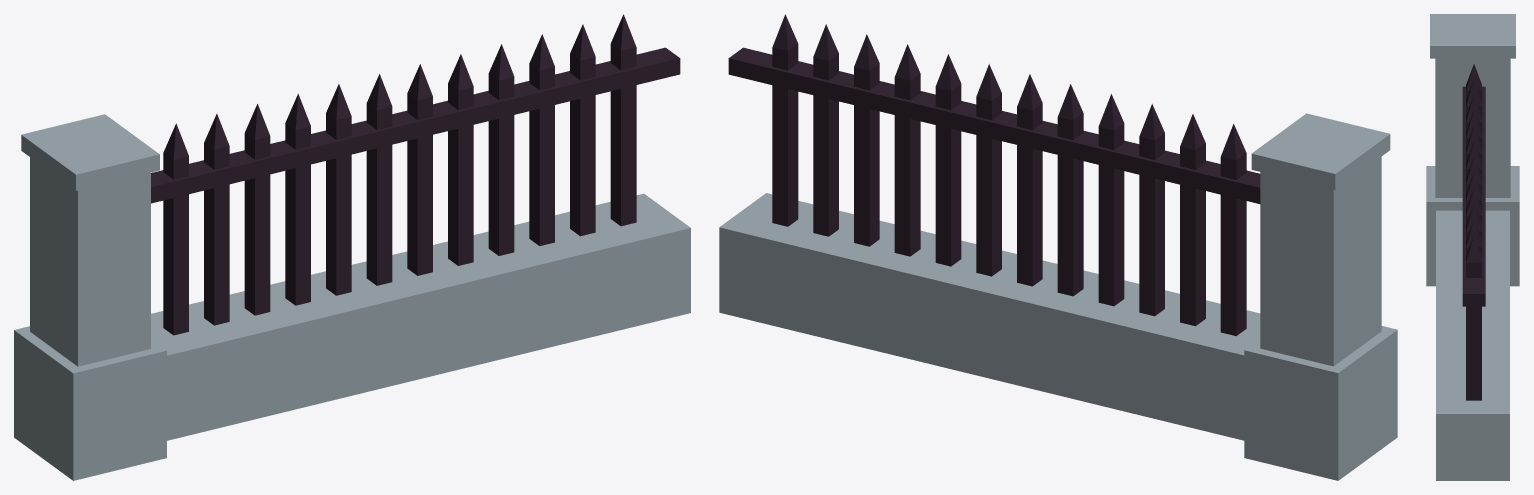
Rendered from IronFence.obj.
3 views of the same model, side by side, from view 1: azimuth 30°, elevation 25°; view 2: azimuth 150°, elevation 25°; view 3: azimuth 270°, elevation 25° (orthographic). The views are drawn at different scales.
Visible parts, largest first — view 1: IronFence_Cube.001; view 2: IronFence_Cube.001; view 3: IronFence_Cube.001.
Part boxes in pixels (x1,y1,x2,y2): IronFence_Cube.001: (14,14,690,480); IronFence_Cube.001: (719,14,1397,480); IronFence_Cube.001: (1426,14,1519,480).
Size of the model in its own units: 15.49 by 7.13 by 2.53.
